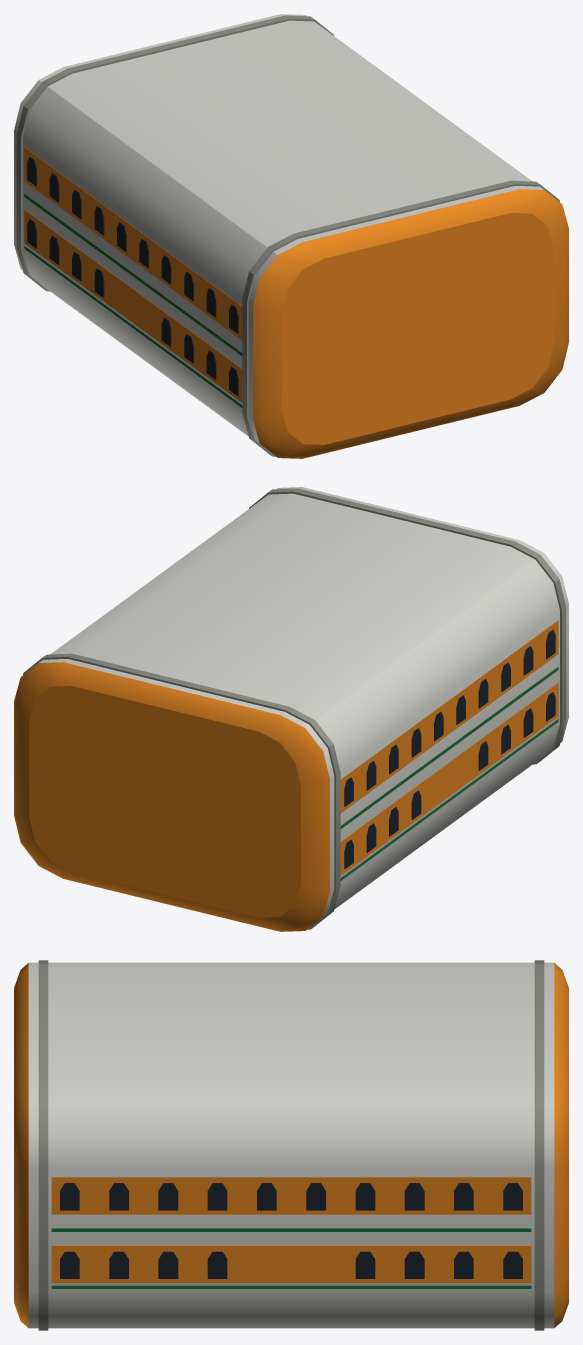
Rendered from bunk500_hull.obj.
3 renders of one model, top to bottom at view 1: azimuth 30°, elevation 25°; view 2: azimuth 150°, elevation 25°; view 3: azimuth 270°, elevation 25°, orthographic. The views are drawn at different scales.
Visible parts, largest first — view 1: bunk500_hull; view 2: bunk500_hull; view 3: bunk500_hull.
Boxes of the visible parts, x1,y1,x2,y2 form: bunk500_hull: (14,14,568,458); bunk500_hull: (14,487,568,931); bunk500_hull: (14,960,568,1330).
Size of the model in its own units: 12.34 by 8.14 by 16.9.
